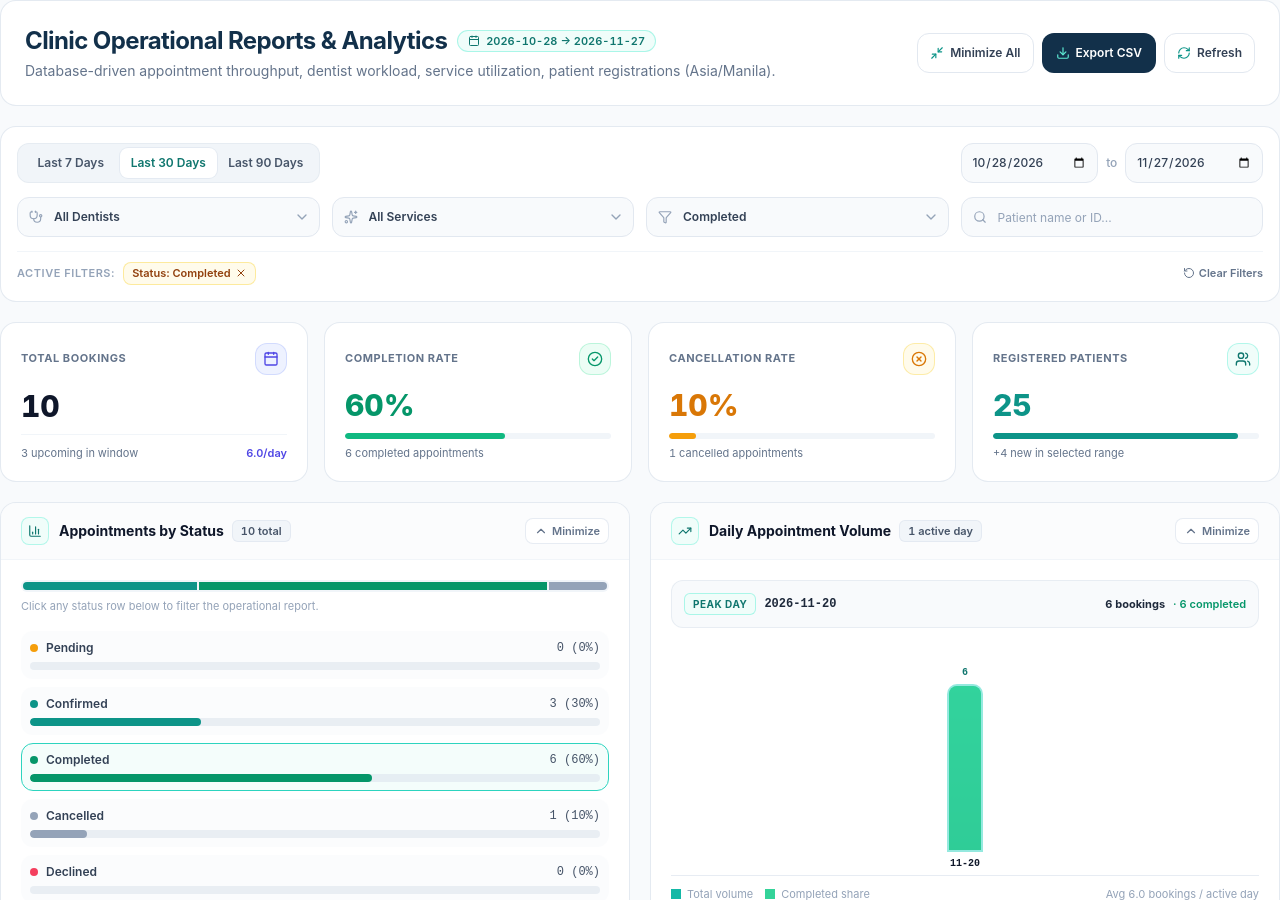
Test: Phase 15: Dashboards, Reports, and Appointment Search UI › ReportsPage renders operational utilization reports without fabricated revenue and validates invalid date ranges
This screenshot has width=1280, height=900.
Earlier steps of the test are not shown.
Type "2026-11-25" into the 1st date field named "Start date" at (1029, 163), box [960,143,1098,183]
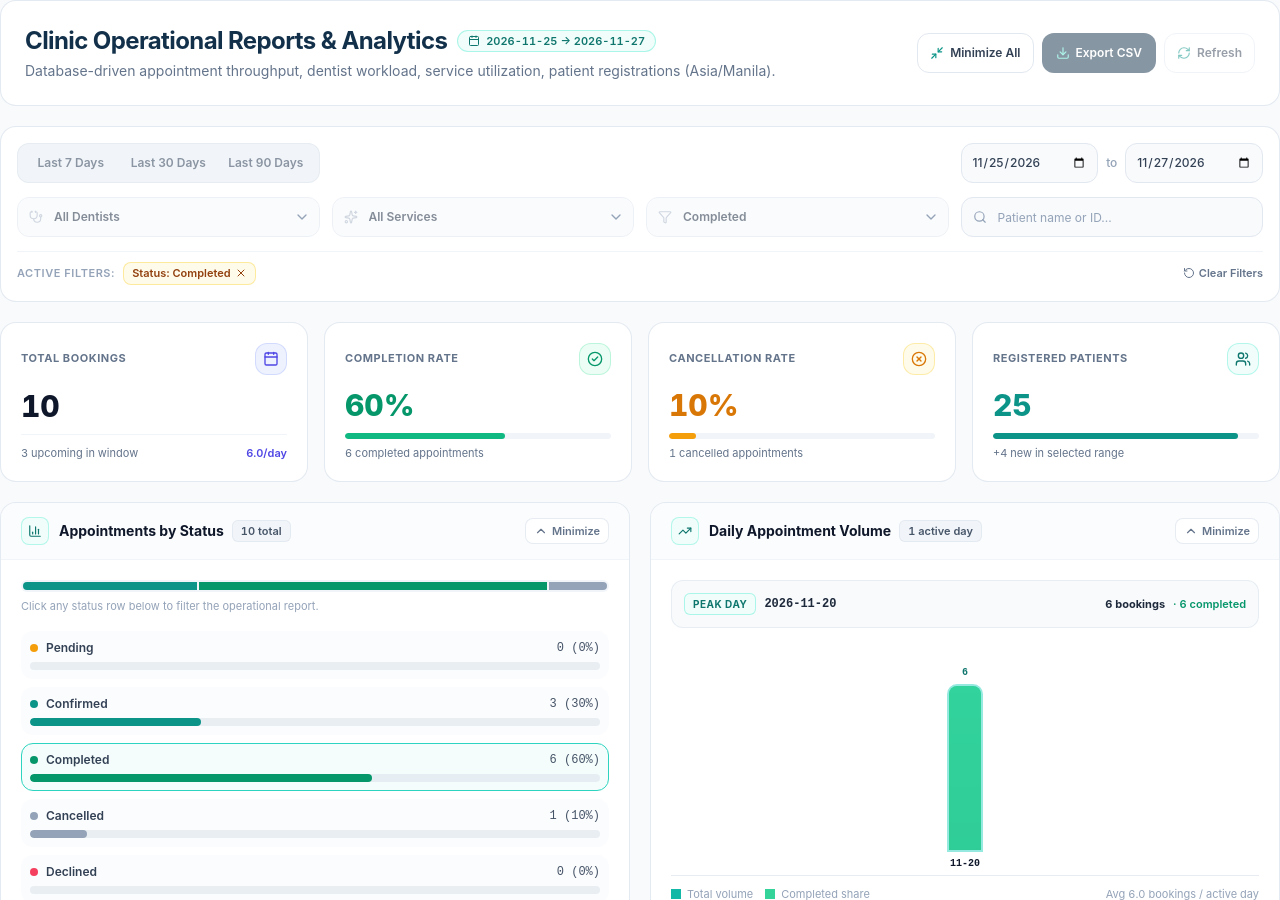
Type "2026-11-10" into the 2nd date field named "End date" at (1194, 163), box [1125,143,1263,183]
(page scrolled)
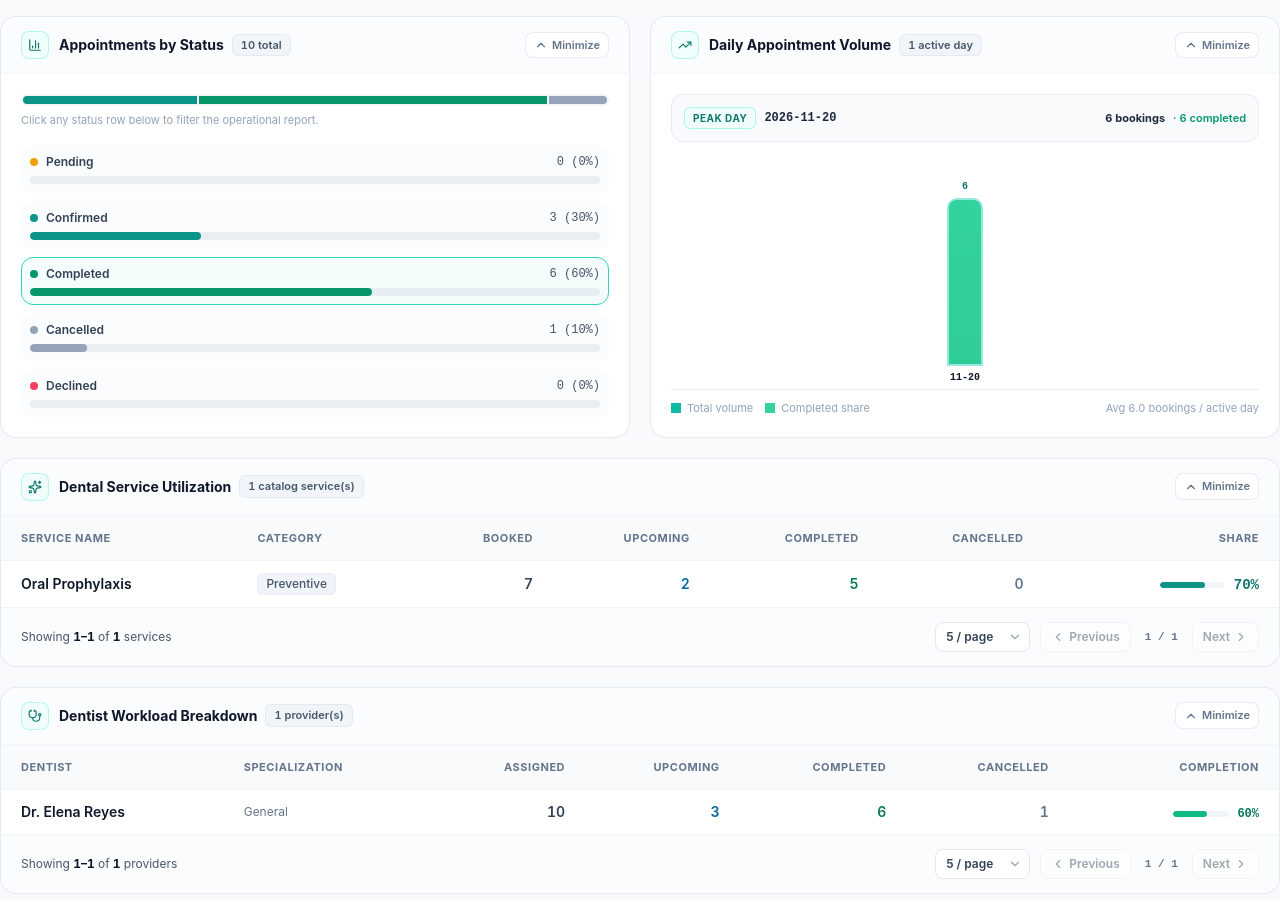
Click the button with aria-label "Minimize Dental Service Utilization" at (1217, 487), box [1175,473,1259,500]
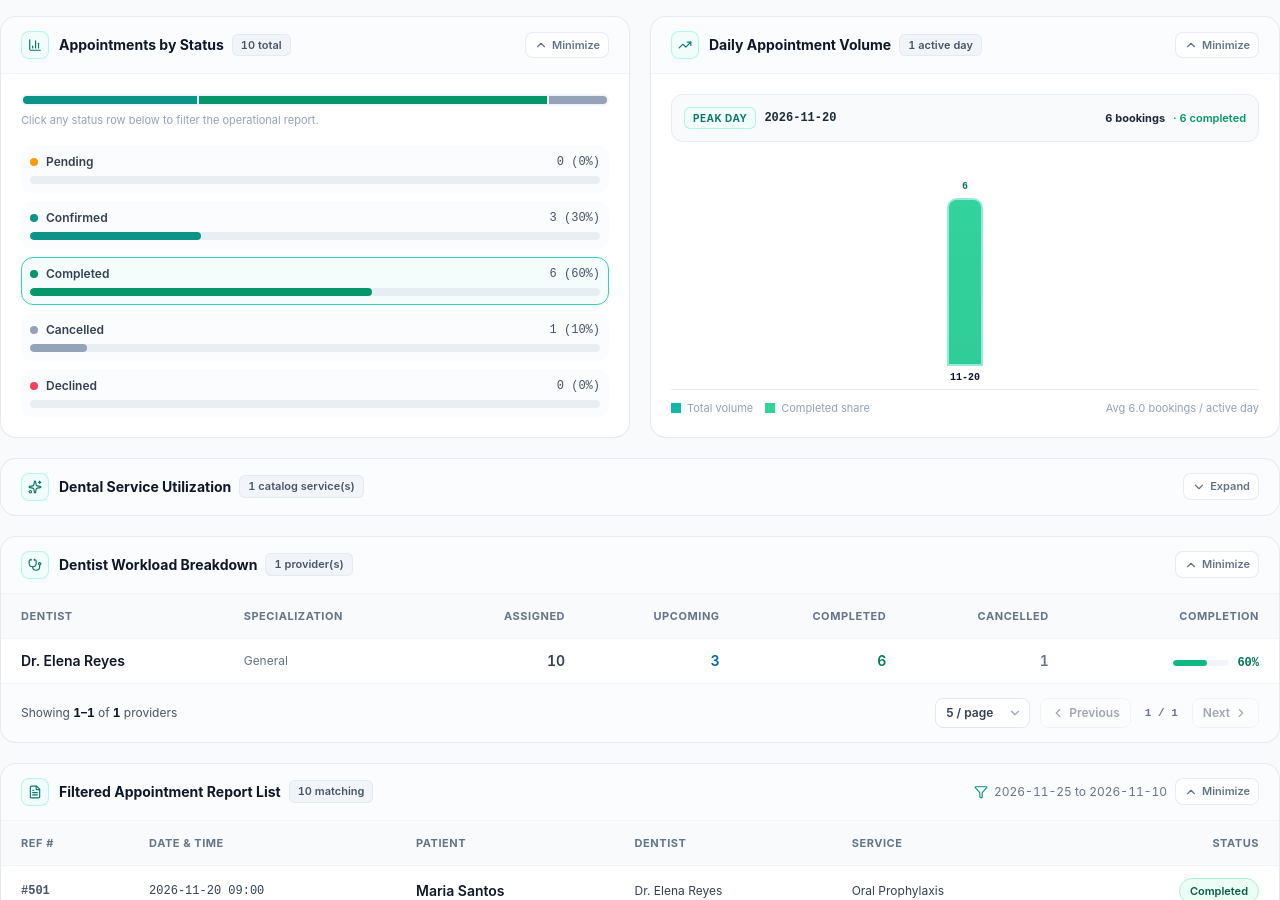
Now the text "70%" is gone
Click the button with aria-label "Expand Dental Service Utilization" at (1221, 487), box [1183,473,1259,500]
(page scrolled)
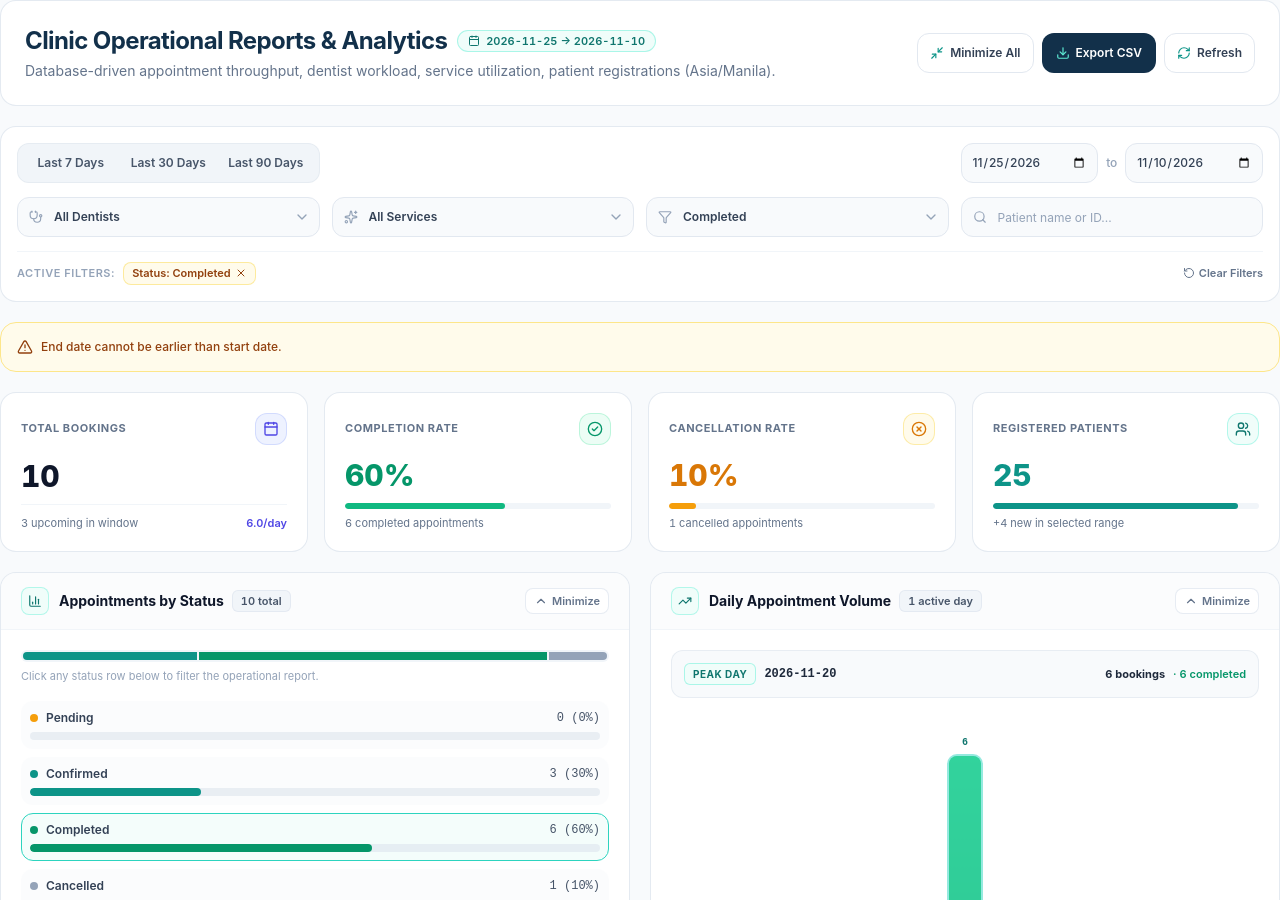
Click the button "Minimize All" at (975, 53), box [917,33,1034,73]
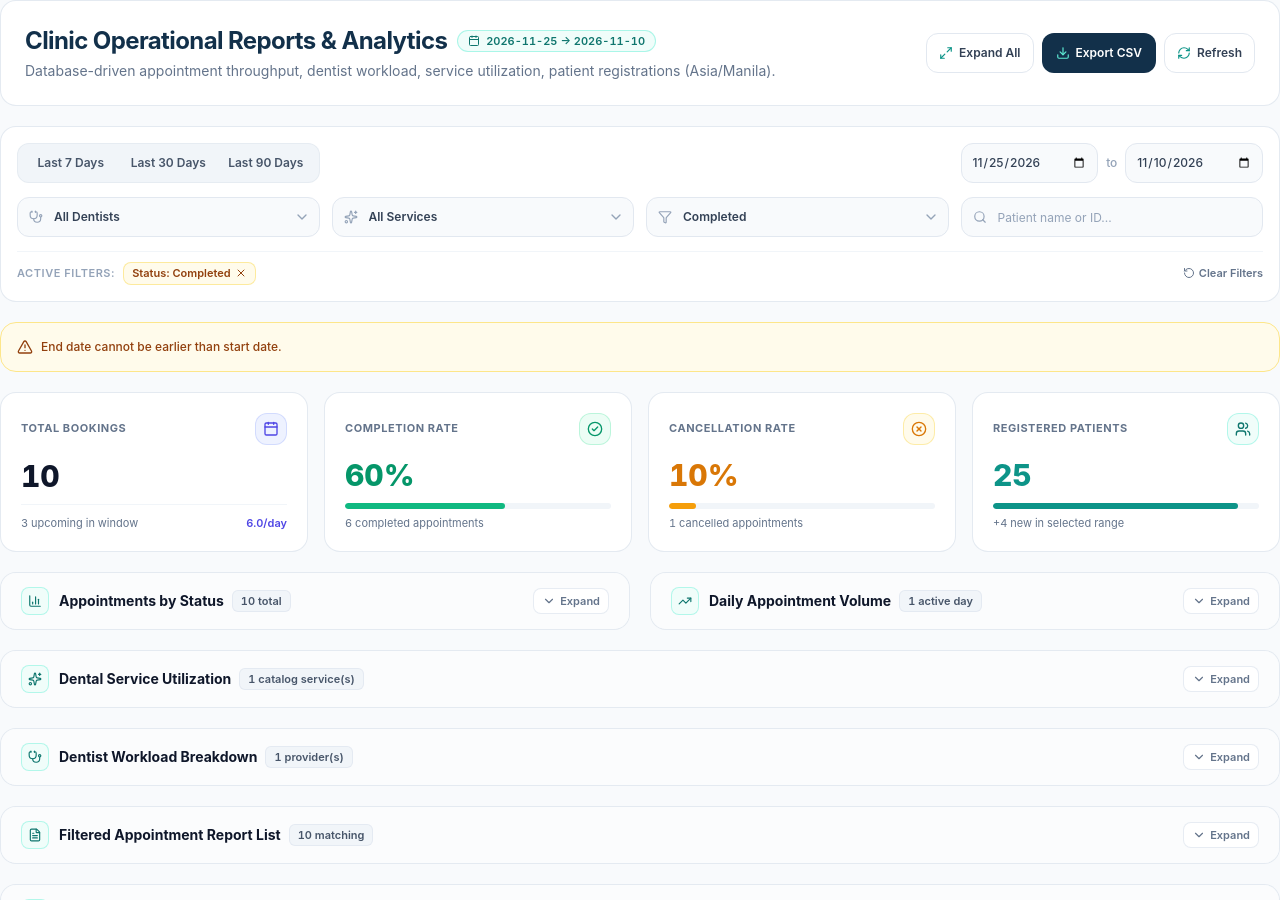
Expected: the text "#501" is not shown
Click the button "Expand All" at (980, 53), box [926,33,1034,73]
(page scrolled)
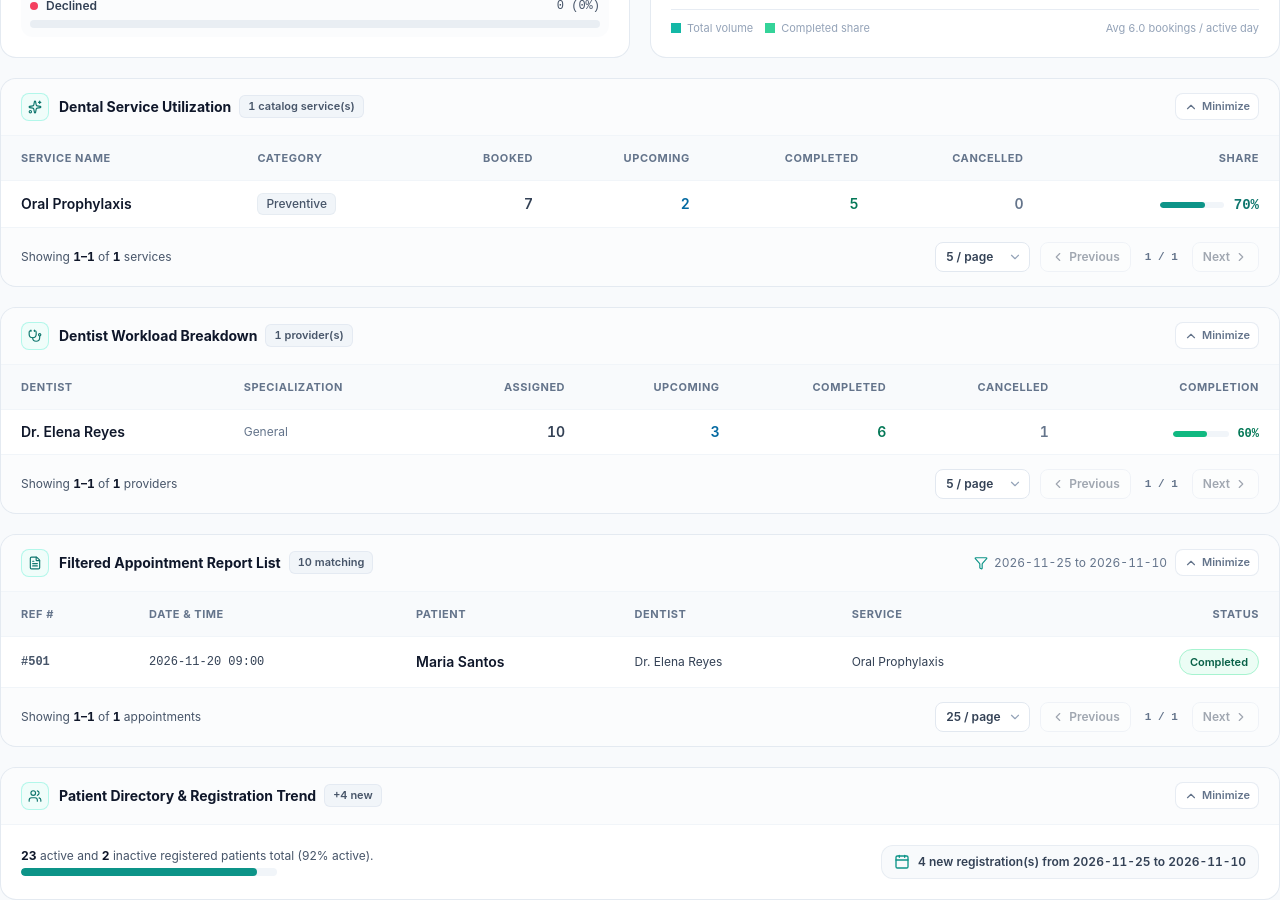
Now the text "#501" is shown, box [1,636,133,686]
